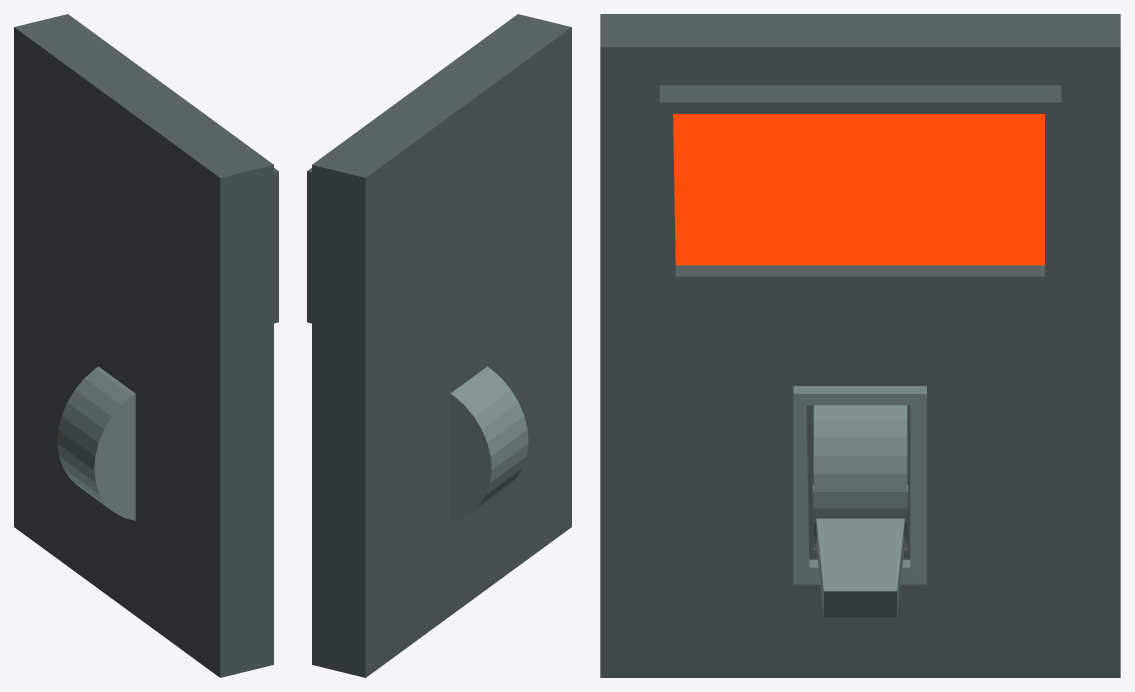
File: switch.fbx
3 views of the same model, side by side, from view 1: azimuth 30°, elevation 25°; view 2: azimuth 150°, elevation 25°; view 3: azimuth 270°, elevation 25° (orthographic). The views are drawn at different scales.
Parts seen in each view (by area): view 1: BackPanel, Switch, IndicatorLightBorder; view 2: BackPanel, Switch, IndicatorLightBorder; view 3: BackPanel, IndicatorLight, IndicatorLightBorder, Switch, SwitchBorder.
Boxes of the visible parts, x1,y1,x2,y2 form: BackPanel: (14,14,273,677); Switch: (57,366,135,520); IndicatorLightBorder: (274,168,278,323); BackPanel: (312,14,571,677); Switch: (450,366,528,520); IndicatorLightBorder: (307,168,311,323); BackPanel: (600,14,1120,677); IndicatorLight: (673,114,1044,265); IndicatorLightBorder: (659,85,1061,293); Switch: (812,405,908,617); SwitchBorder: (793,386,926,584).
Size of the model in its own units: 63.43 by 172 by 128.
